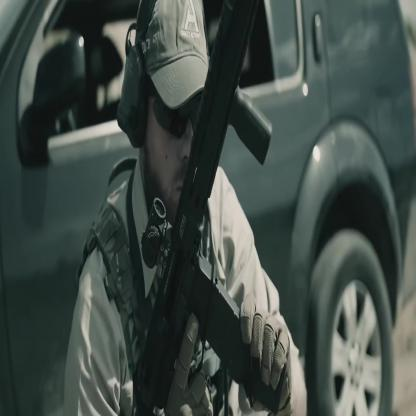Gun: (128, 0, 286, 415)
